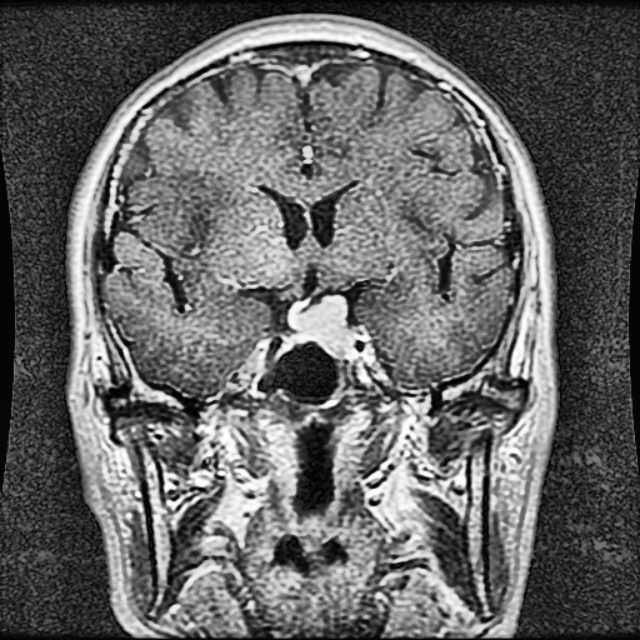Pituitary: (294, 293, 354, 352)
